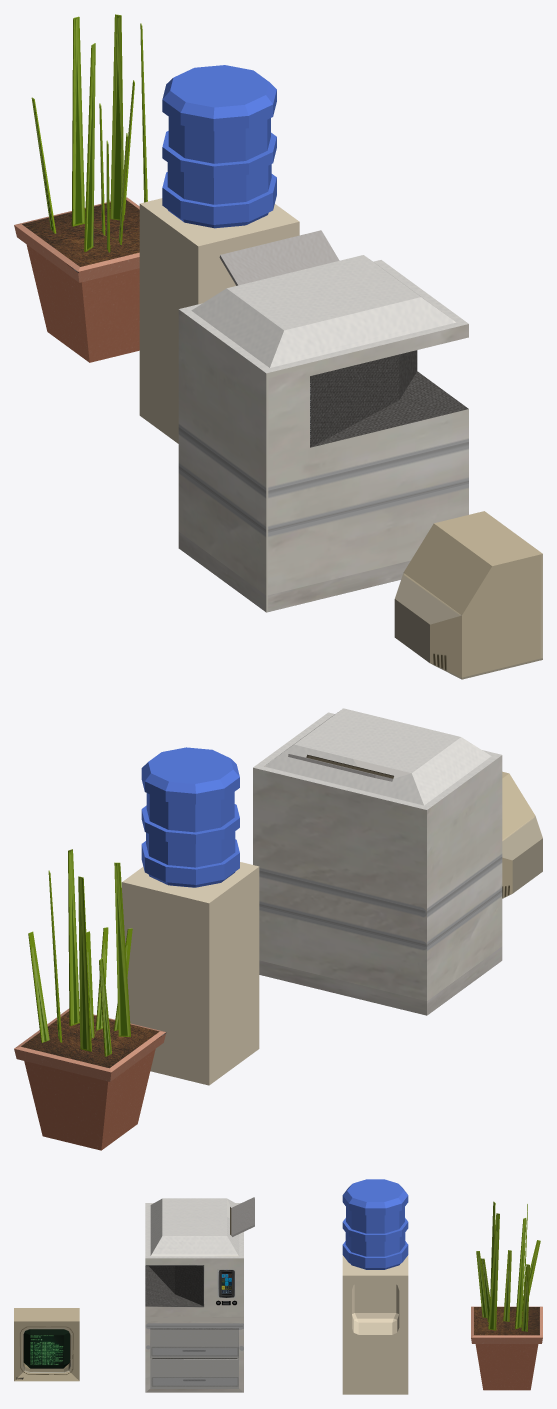
File: MazeGame-Props-2_02.glb
The picture shows the model from 3 angles, top to bottom: view 1: azimuth 30°, elevation 25°; view 2: azimuth 150°, elevation 25°; view 3: azimuth 270°, elevation 25°; orthographic projection. The views are drawn at different scales.
Parts seen in each view (by area): view 1: Fax, Watercooler, PlantPot, Computer; view 2: Fax, Watercooler, PlantPot, Computer; view 3: Fax, Watercooler, PlantPot, Computer.
Boxes of the visible parts, bbox=[...] form: Fax: bbox=[178, 230, 468, 612]; Watercooler: bbox=[139, 65, 299, 443]; PlantPot: bbox=[14, 14, 147, 362]; Computer: bbox=[394, 511, 542, 679]; Fax: bbox=[253, 708, 502, 1015]; Watercooler: bbox=[122, 747, 259, 1085]; PlantPot: bbox=[14, 849, 166, 1150]; Computer: bbox=[502, 771, 542, 898]; Fax: bbox=[145, 1197, 254, 1392]; Watercooler: bbox=[342, 1179, 408, 1394]; PlantPot: bbox=[471, 1201, 542, 1390]; Computer: bbox=[14, 1308, 79, 1381].
Size of what is drawn, in the model's own units: 2.12 by 3.19 by 8.05.
5 materials, 3 textured.
